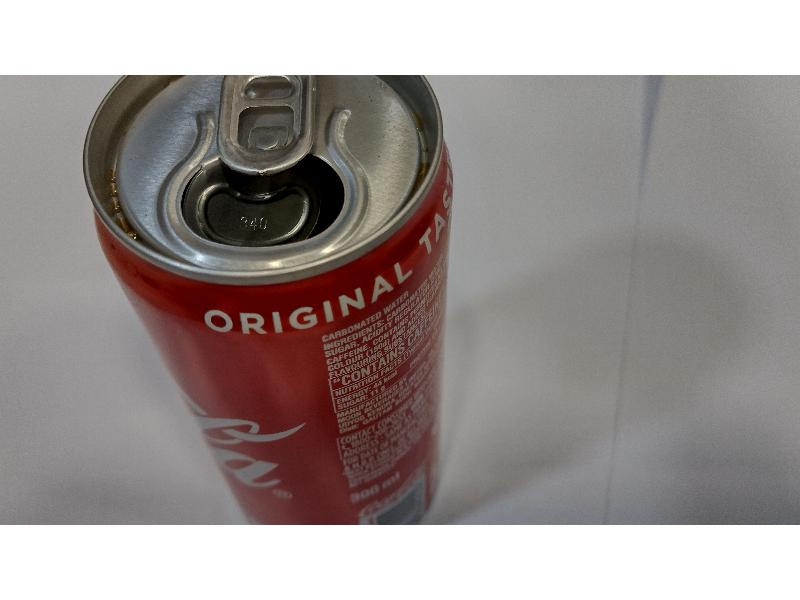can: (84, 77, 458, 521)
